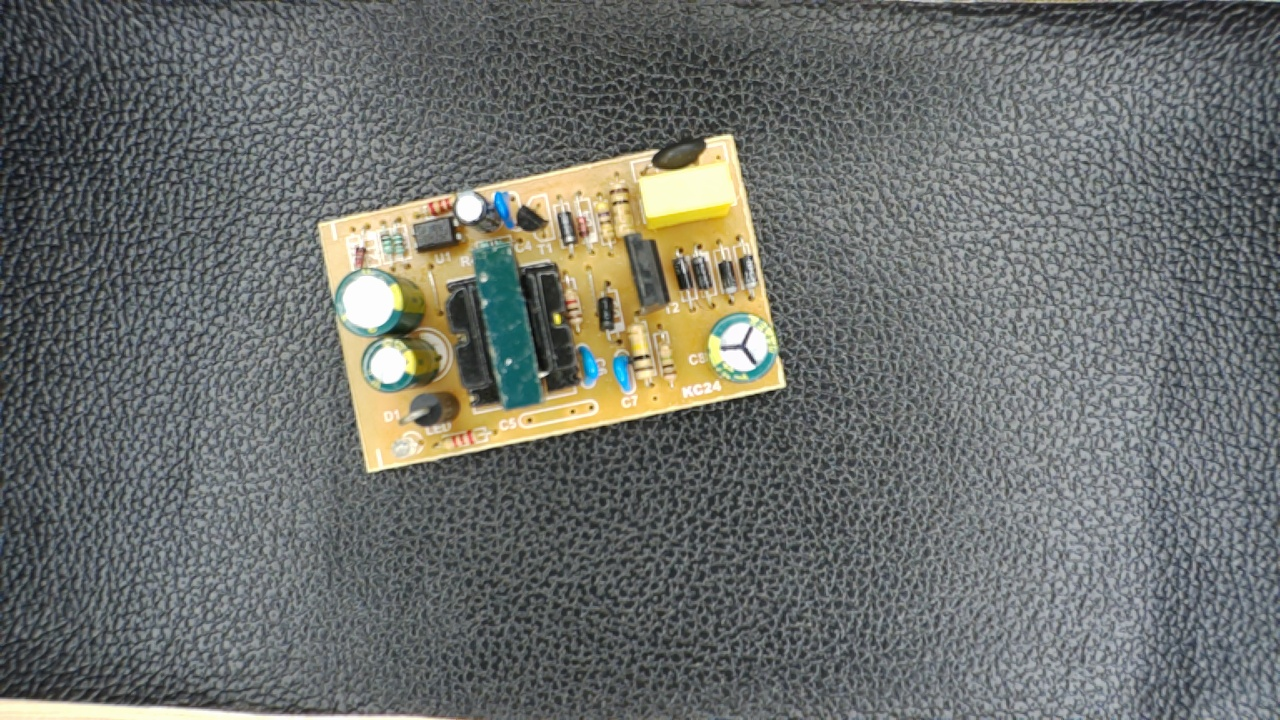fuse: (629, 140, 717, 174)
hv_capacitor: (701, 308, 783, 384)
optocoupler: (401, 216, 467, 257)
